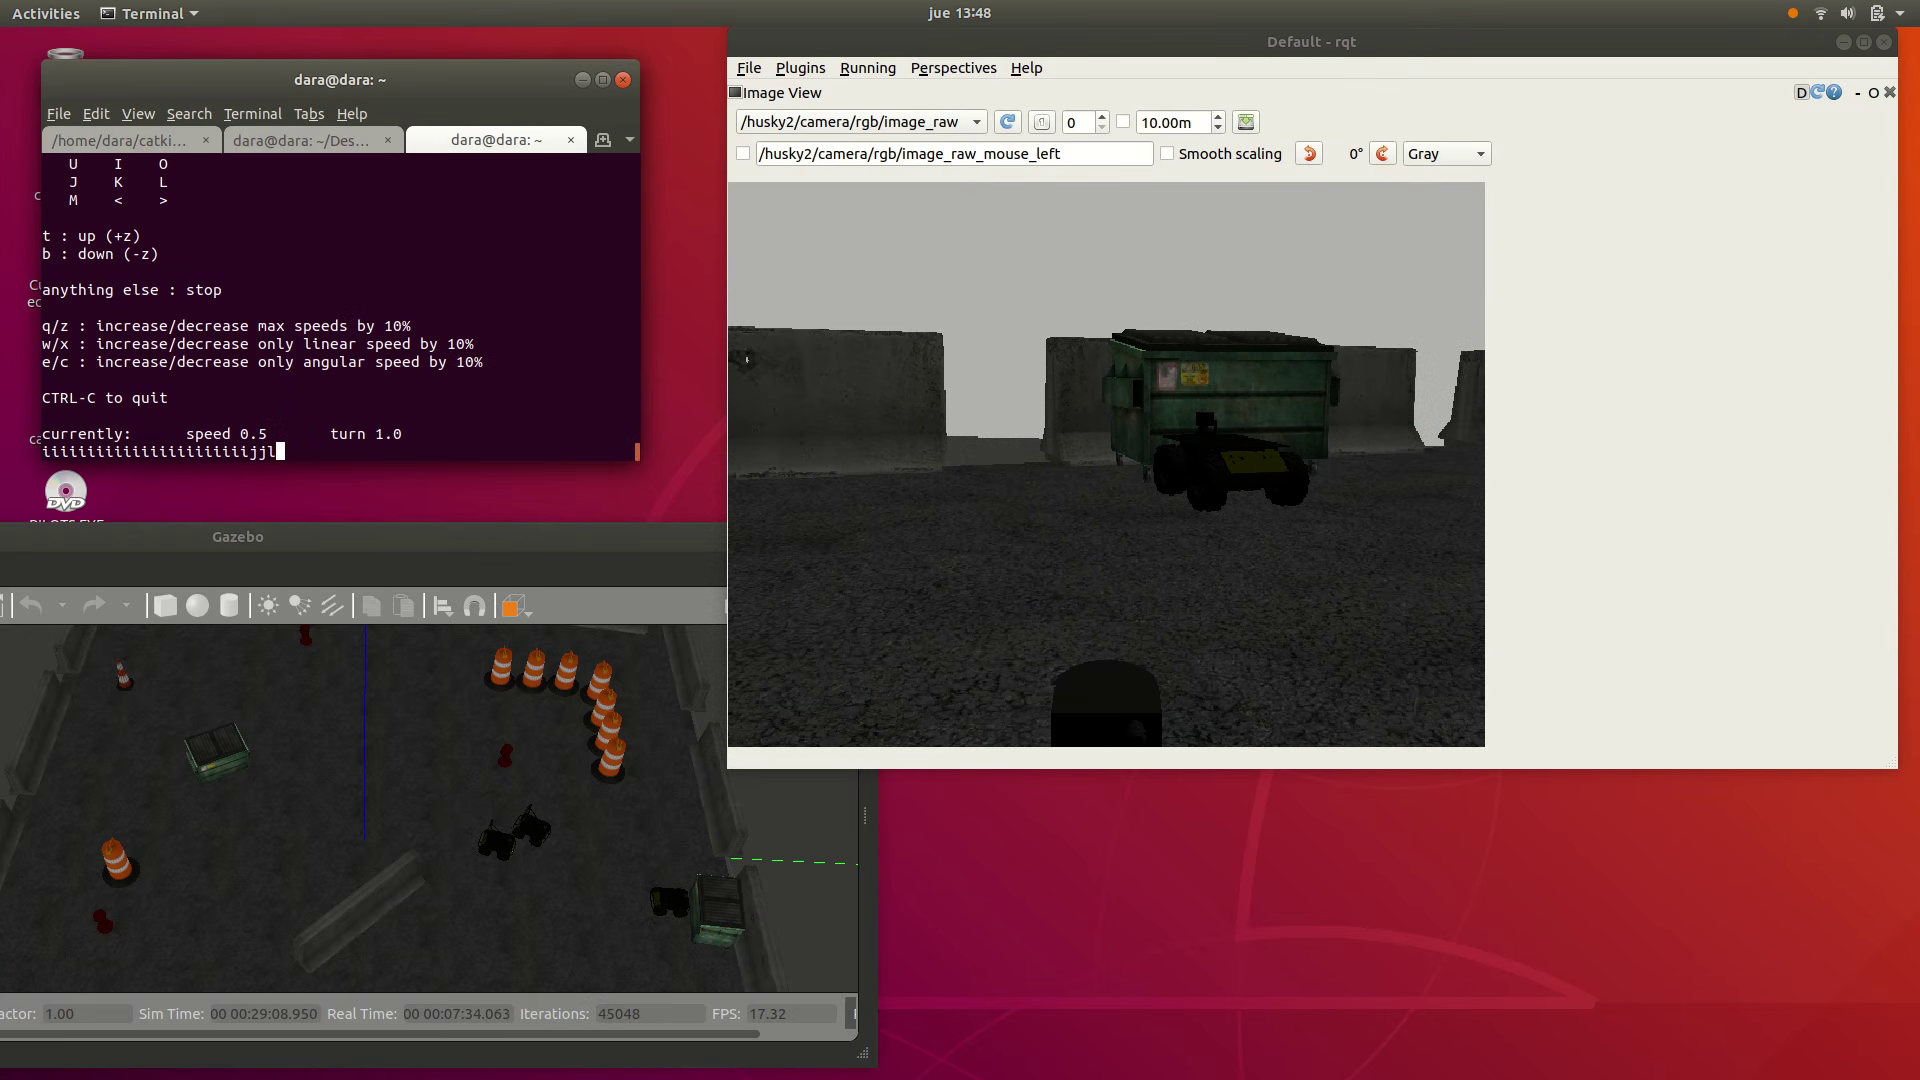husky: (1154, 435, 1311, 513), (649, 886, 691, 919), (512, 814, 551, 848), (477, 830, 517, 859)
